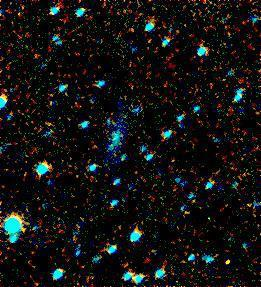star: (215, 250, 245, 280)
